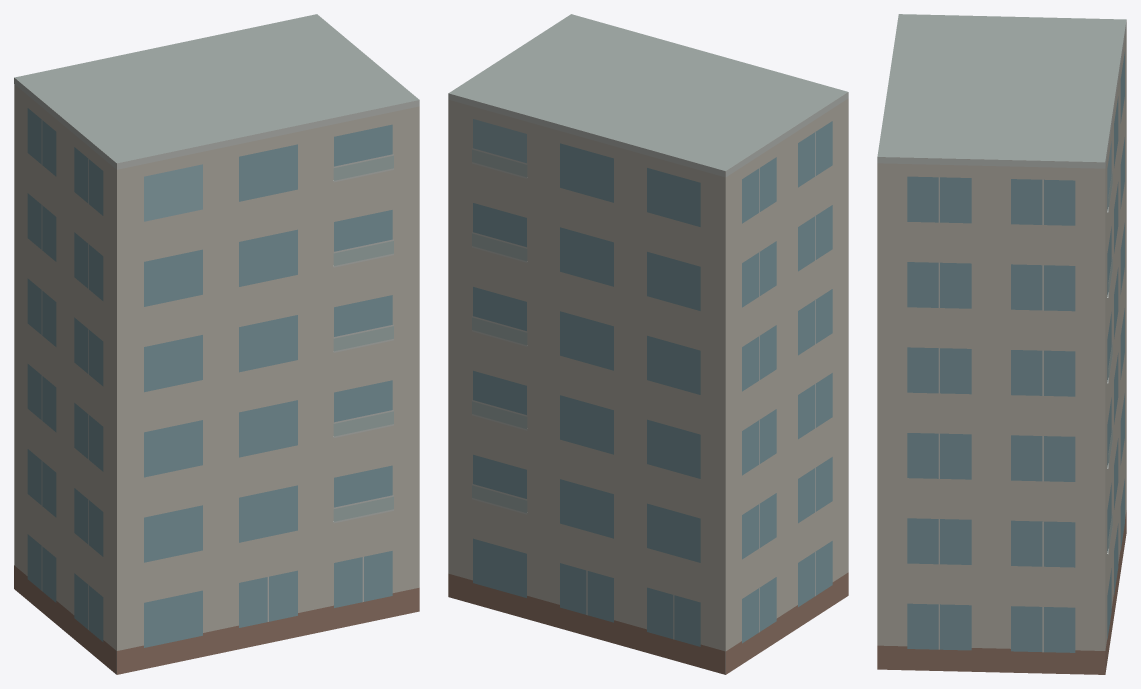
The model's file is survey-upis-32769427.glb.
3 views of the same model, side by side, from view 1: azimuth 30°, elevation 25°; view 2: azimuth 150°, elevation 25°; view 3: azimuth 270°, elevation 25° (orthographic).
Visible parts, largest first — view 1: survey-upis-32769427.tmp; view 2: survey-upis-32769427.tmp; view 3: survey-upis-32769427.tmp.
Boxes of the visible parts, bbox=[...] form: survey-upis-32769427.tmp: bbox=[14, 14, 419, 674]; survey-upis-32769427.tmp: bbox=[448, 14, 848, 674]; survey-upis-32769427.tmp: bbox=[877, 14, 1126, 674].
Size of the model in its own units: 12.11 by 19.5 by 8.6.
